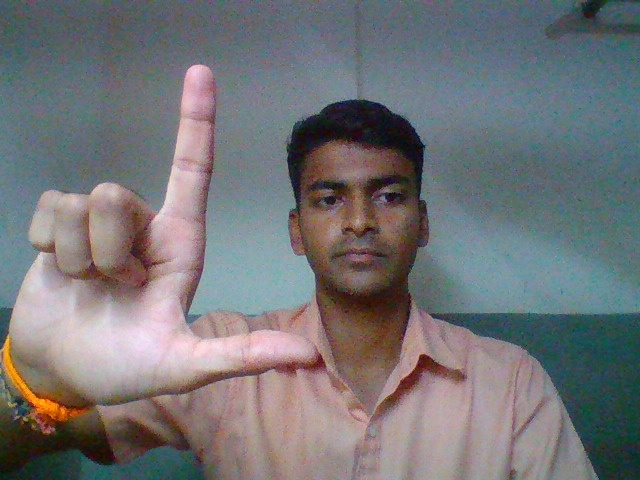L: (9, 60, 330, 412)
